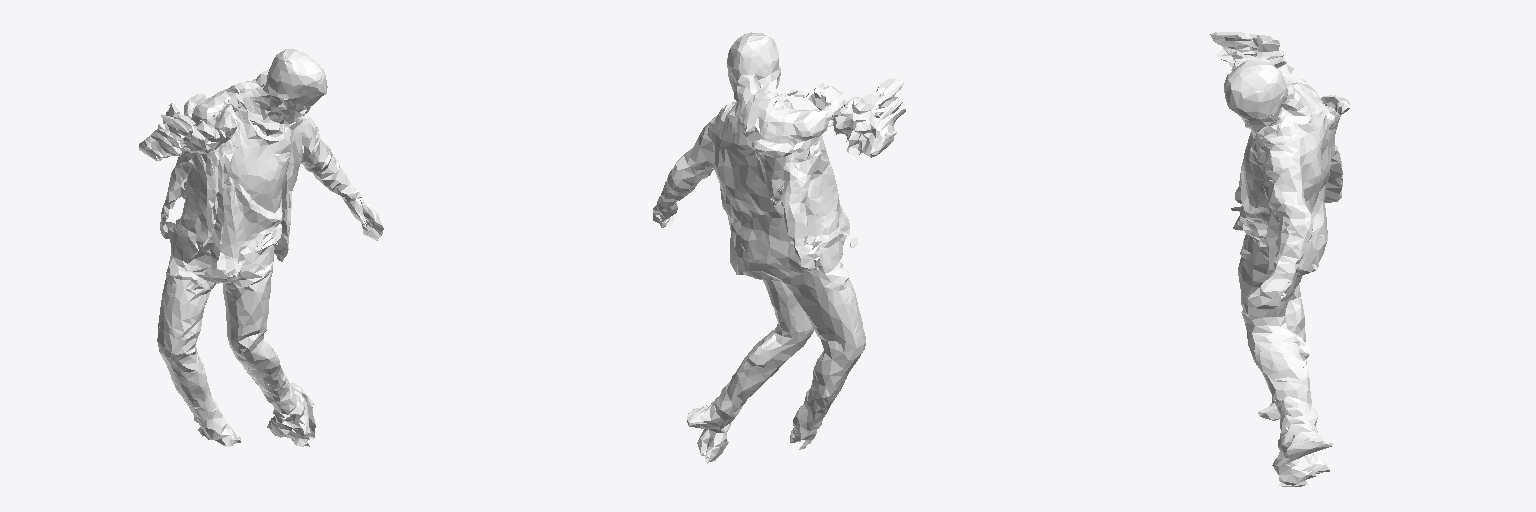
The model's file is patricia_jump_normalized.obj.
The picture shows the model from 3 angles: view 1: azimuth 30°, elevation 25°; view 2: azimuth 150°, elevation 25°; view 3: azimuth 270°, elevation 25°; orthographic projection.
Size of the model in its own units: 0.5917 by 1 by 0.3111.